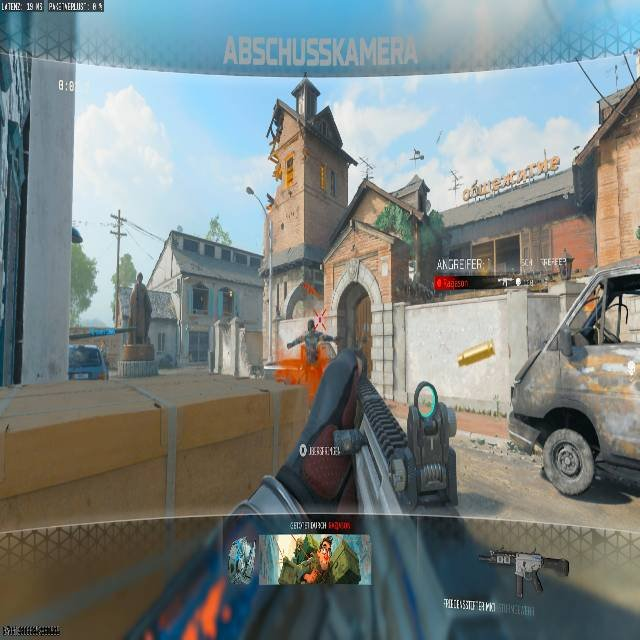head: (306, 317, 316, 331)
player: (297, 317, 327, 370)
